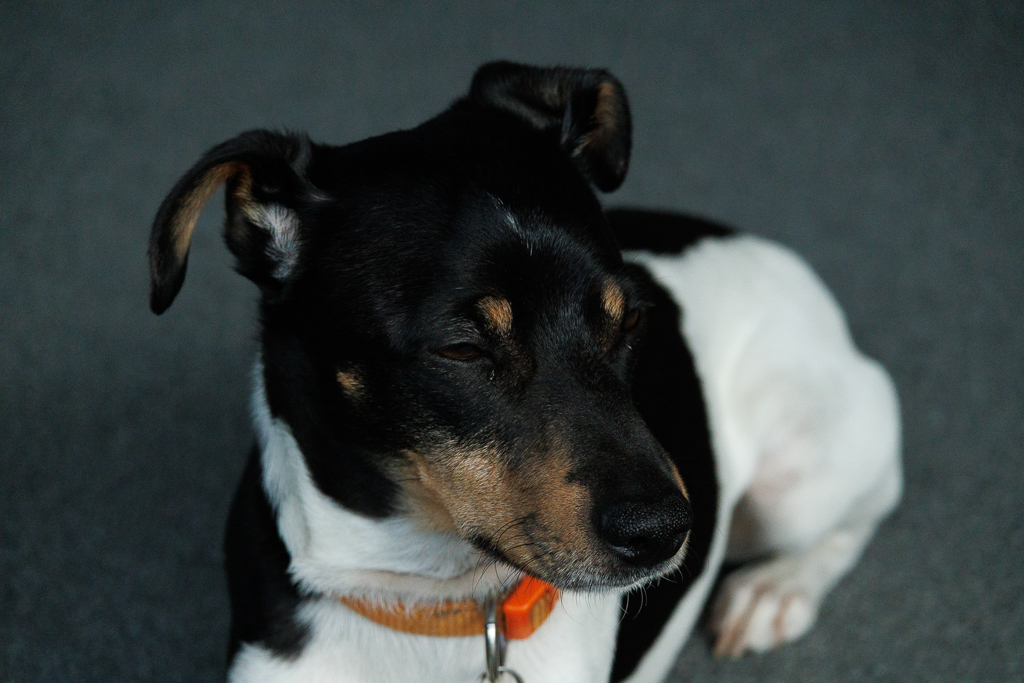Dog: (139, 55, 910, 683)
